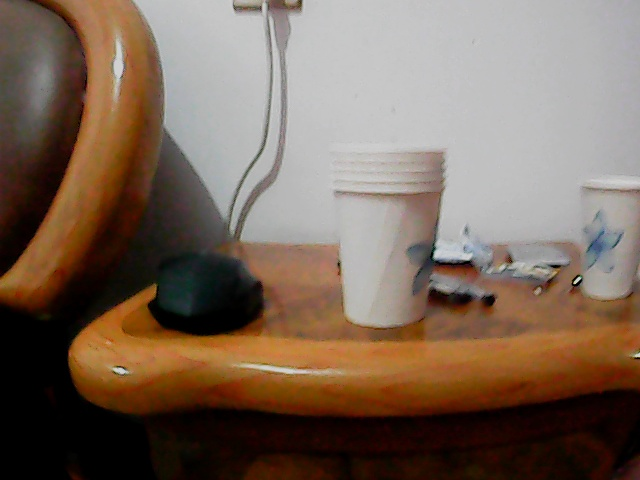cup: (329, 145, 440, 328)
mouse: (146, 247, 266, 331)
